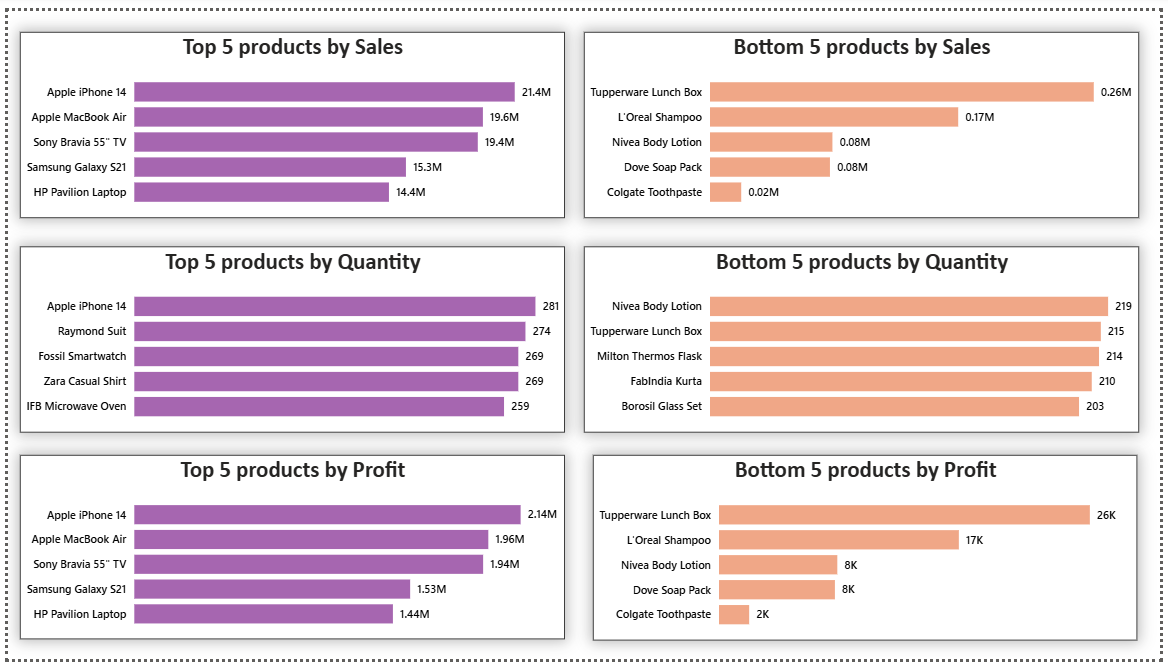

The page's visual inventory and layout, read from the dashboard file:
{"tool":"powerbi","page":{"name":" Top/Bottom 5 Analysis","canvas":[1280,720],"ordinal":1},"visuals":[{"type":"barChart","title":"Top 5 products by Sales","fields":{"Category":["Dim Product.Product Name"],"Y":["Sum(Fact Table.Net Sales)"]},"box":[13,22.8,605.1,206.6],"z":0},{"type":"barChart","title":"Bottom 5 products by Sales","fields":{"Category":["Dim Product.Product Name"],"Y":["Sum(Fact Table.Net Sales)"]},"box":[639.2,22.8,616.5,206.6],"z":1000},{"type":"barChart","title":"Top 5 products by Quantity","fields":{"Category":["Dim Product.Product Name"],"Y":["Sum(Fact Table.Units Sold)"]},"box":[13,261.9,605.1,206.6],"z":2000},{"type":"barChart","title":"Bottom 5 products by Quantity","fields":{"Category":["Dim Product.Product Name"],"Y":["Sum(Fact Table.Units Sold)"]},"box":[639.2,261.9,616.5,206.6],"z":3000},{"type":"barChart","title":"Top 5 products by Profit","fields":{"Category":["Dim Product.Product Name"],"Y":["Sum(Fact Table.Profit)"]},"box":[13,492.8,605.1,204.9],"z":4000},{"type":"barChart","title":"Bottom 5 products by Profit","fields":{"Category":["Dim Product.Product Name"],"Y":["Sum(Fact Table.Profit)"]},"box":[650.1,493.2,604.7,206],"z":5000}]}

Visuals, with their boxes in screenshot pixels (x1, y1, x2, y2), scaled from the page's 1280x720 canvas onto the 1168x666 screenshot:
"Top 5 products by Sales" barChart: <box>12,21,564,212</box>
"Bottom 5 products by Sales" barChart: <box>583,21,1146,212</box>
"Top 5 products by Quantity" barChart: <box>12,242,564,433</box>
"Bottom 5 products by Quantity" barChart: <box>583,242,1146,433</box>
"Top 5 products by Profit" barChart: <box>12,456,564,645</box>
"Bottom 5 products by Profit" barChart: <box>593,456,1145,647</box>
